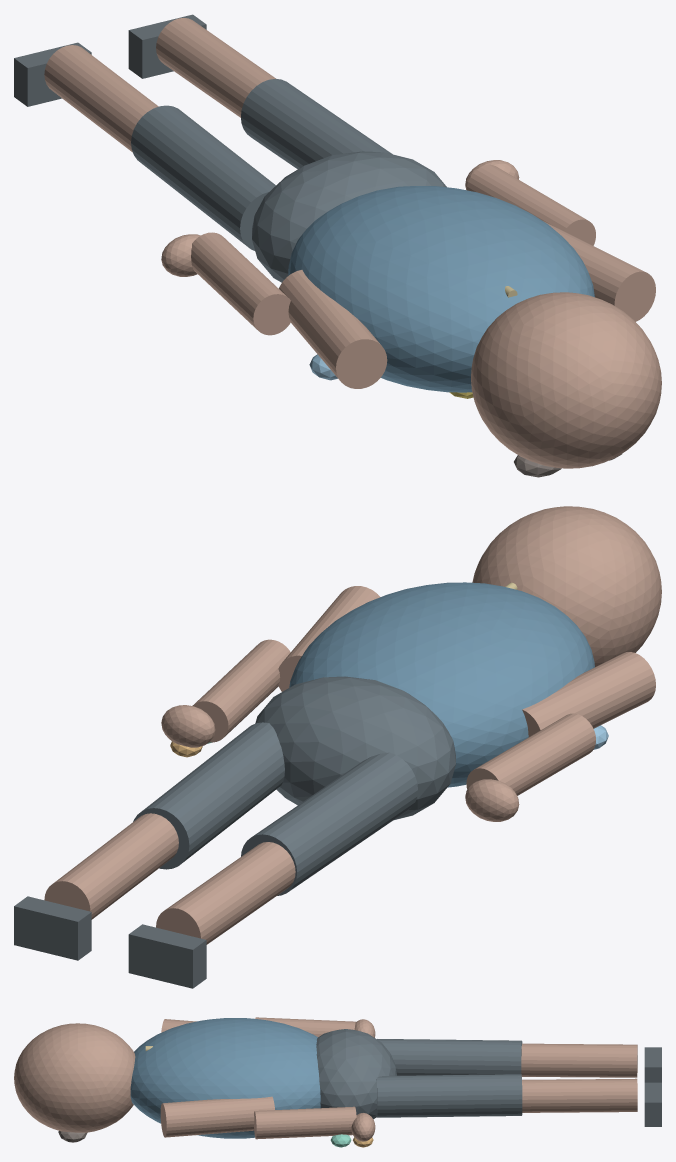
The model's file is patient-vitals-high.glb.
3 views of the same model, one above another, from view 1: azimuth 30°, elevation 25°; view 2: azimuth 150°, elevation 25°; view 3: azimuth 270°, elevation 25° (orthographic). The views are drawn at different scales.
Parts seen in each view (by area): view 1: torso, head, left_thigh, pelvis, right_thigh, left_upper_arm, left_lower_leg, right_lower_leg, left_forearm, right_upper_arm, right_forearm, left_foot (+2 smaller); view 2: torso, head, pelvis, left_thigh, right_thigh, left_lower_leg, right_lower_leg, left_upper_arm, left_forearm, right_forearm, left_foot, right_foot (+3 smaller); view 3: torso, head, right_thigh, pelvis, left_thigh, left_lower_leg, right_lower_leg, right_upper_arm, right_forearm, left_forearm, right_foot, left_foot (+5 smaller).
Boxes of the visible parts, x1=… form: torso: x1=288, y1=186, x2=594, y2=392; head: x1=471, y1=292, x2=661, y2=468; left_thigh: x1=131, y1=105, x2=275, y2=250; pelvis: x1=252, y1=151, x2=446, y2=282; right_thigh: x1=241, y1=78, x2=392, y2=169; left_upper_arm: x1=279, y1=270, x2=387, y2=388; left_lower_leg: x1=44, y1=45, x2=158, y2=152; right_lower_leg: x1=156, y1=18, x2=276, y2=117; left_forearm: x1=191, y1=232, x2=290, y2=335; right_upper_arm: x1=543, y1=221, x2=655, y2=321; right_forearm: x1=466, y1=164, x2=595, y2=245; left_foot: x1=14, y1=42, x2=91, y2=106; torso: x1=289, y1=582, x2=594, y2=787; head: x1=472, y1=506, x2=661, y2=666; pelvis: x1=255, y1=676, x2=455, y2=819; left_thigh: x1=241, y1=752, x2=417, y2=895; right_thigh: x1=133, y1=722, x2=284, y2=869; left_lower_leg: x1=156, y1=842, x2=295, y2=944; right_lower_leg: x1=44, y1=813, x2=178, y2=919; left_upper_arm: x1=522, y1=652, x2=655, y2=736; left_forearm: x1=466, y1=713, x2=595, y2=795; right_forearm: x1=192, y1=639, x2=290, y2=742; left_foot: x1=128, y1=924, x2=206, y2=988; right_foot: x1=14, y1=896, x2=91, y2=960; torso: x1=130, y1=1018, x2=320, y2=1138; head: x1=14, y1=1023, x2=135, y2=1132; right_thigh: x1=376, y1=1074, x2=522, y2=1117; pelvis: x1=316, y1=1029, x2=396, y2=1119; left_thigh: x1=377, y1=1039, x2=522, y2=1075; left_lower_leg: x1=521, y1=1043, x2=637, y2=1077; right_lower_leg: x1=522, y1=1078, x2=637, y2=1112; right_upper_arm: x1=160, y1=1096, x2=274, y2=1137; right_forearm: x1=254, y1=1106, x2=356, y2=1139; left_forearm: x1=255, y1=1017, x2=356, y2=1037; right_foot: x1=644, y1=1082, x2=661, y2=1126; left_foot: x1=644, y1=1047, x2=661, y2=1082.
Bounding box in the file's own units: 2.1 × 0.93 × 5.27.
